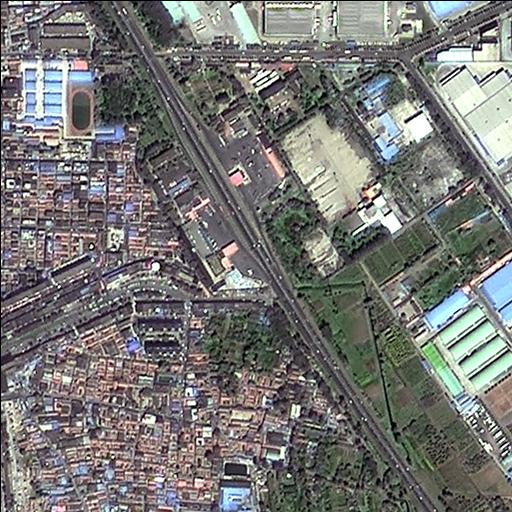school: (65, 58, 127, 143)
